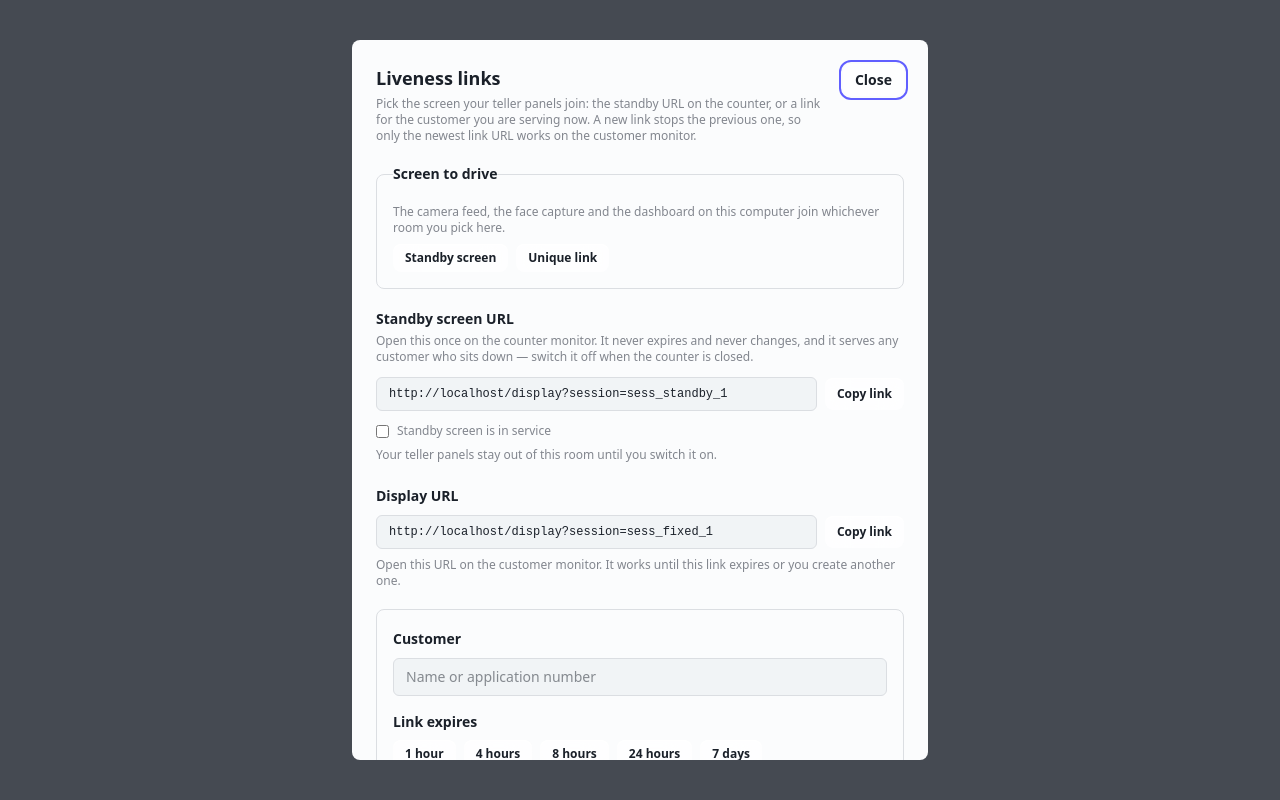
Scenario: LivenessPageModal › mints a link with the chosen preset and shows the new URL
Expected: the field labelled "Display URL" is shown, [376, 515, 817, 549]
In the field labelled "Customer": (640, 677) [393, 658, 887, 696], type "Chhorn Sreyneang"
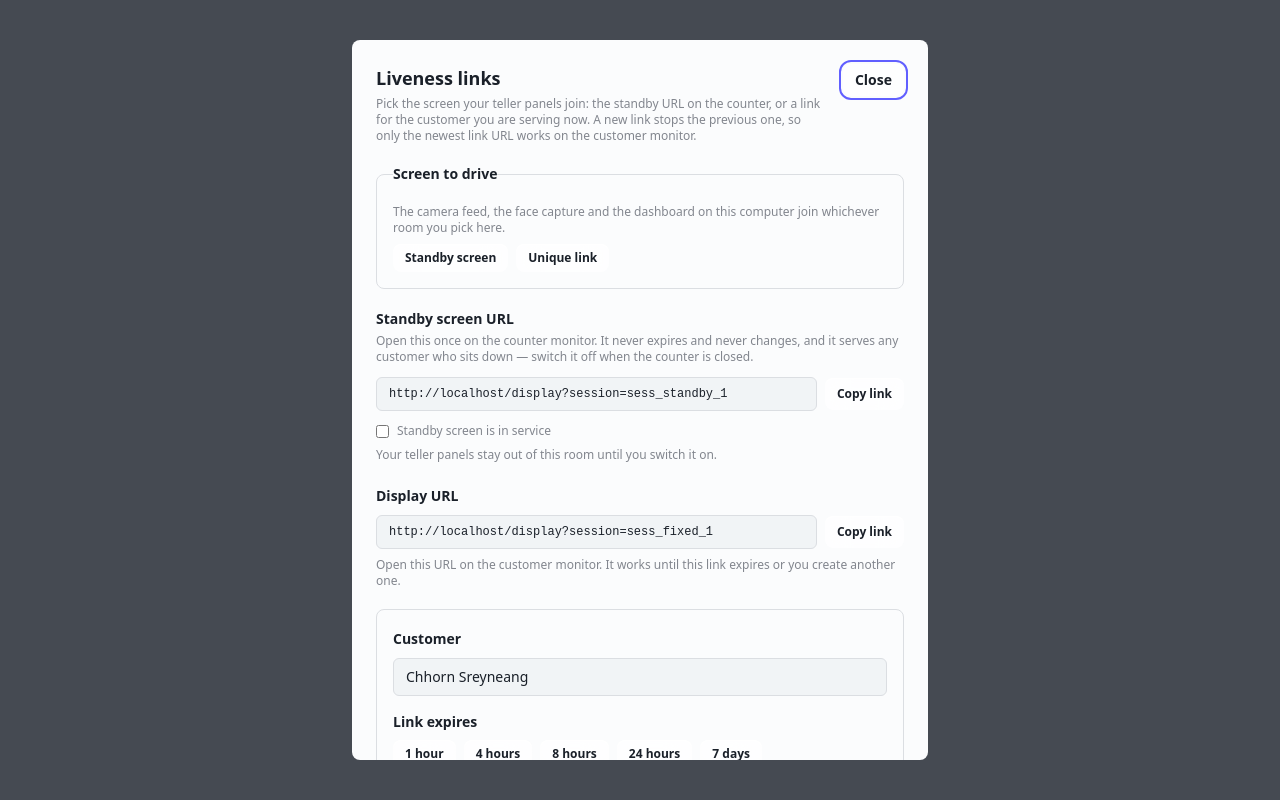
Click the button "1 hour": (424, 754) [393, 740, 456, 768]
(page scrolled)
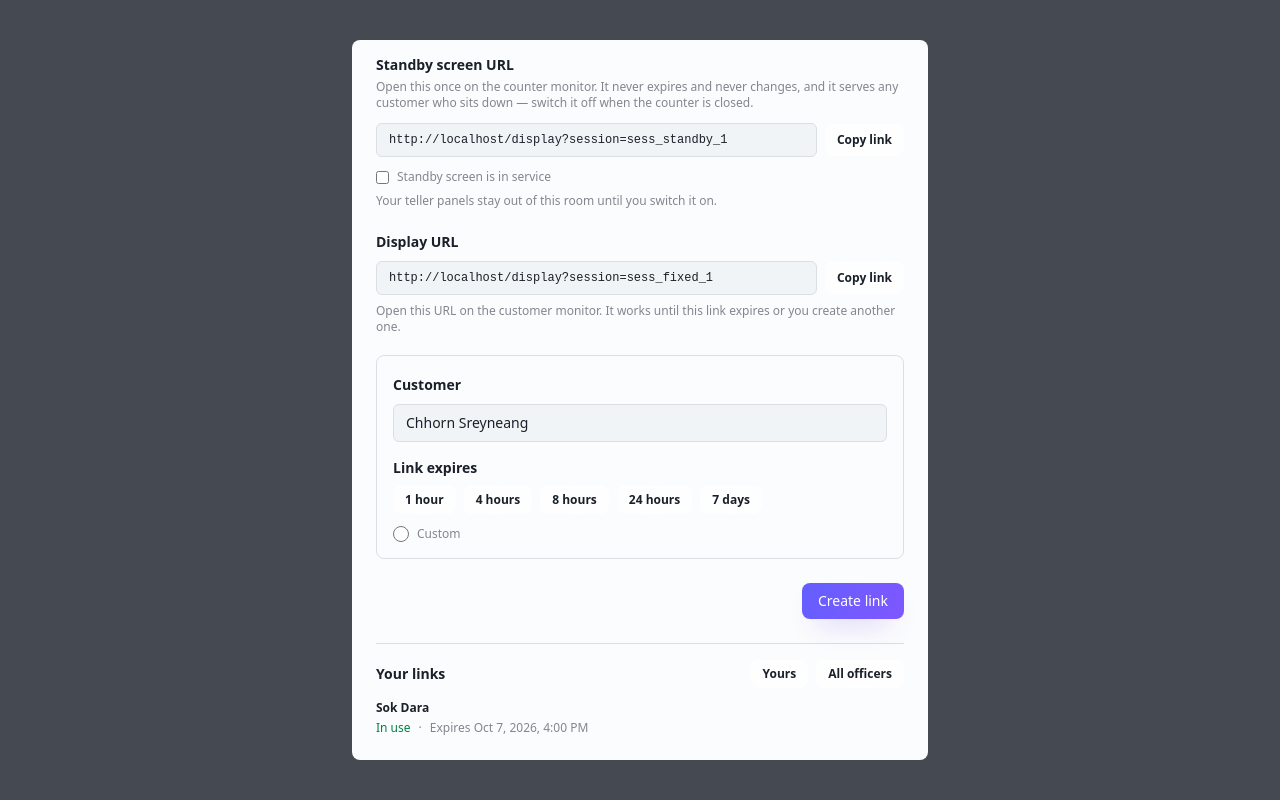
Click the button "Create link": (853, 601) [802, 583, 904, 619]
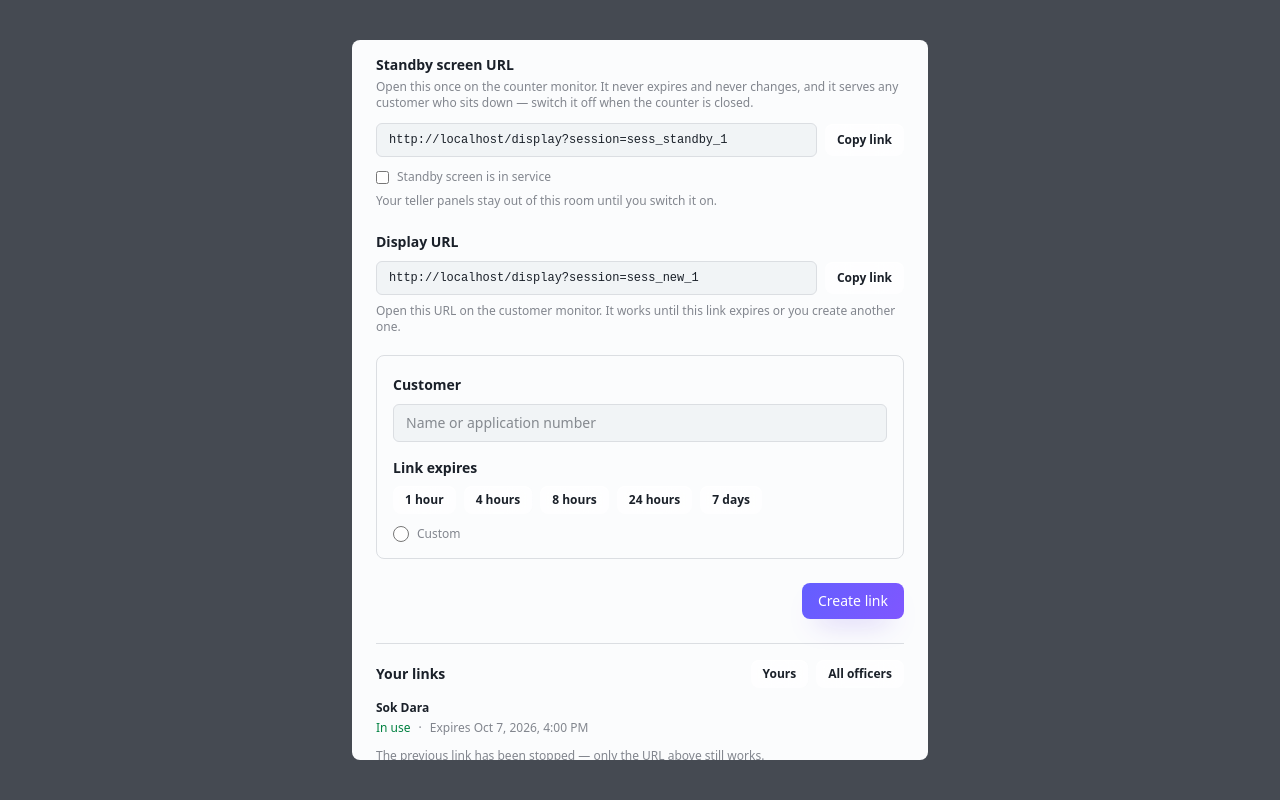
Now the field labelled "Customer" is empty, box [393, 404, 887, 442]
Now the text "previous link has been stopped" is shown, box [376, 747, 764, 760]
